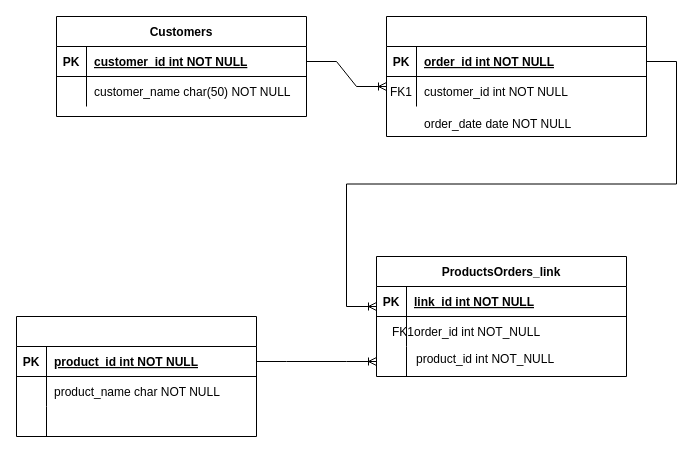
This 693x453 diagram has some shape labels left out. Each missing label, with the box of its shape:
Orders: (386, 16, 646, 136)
Products: (16, 316, 256, 436)
